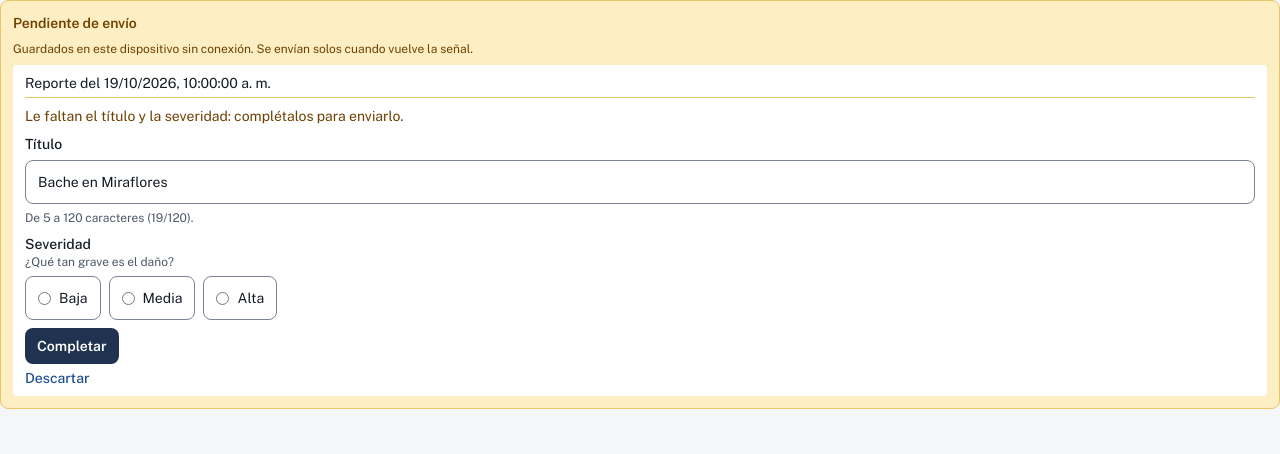
Scenario: PendientesDeEnvio: reporte incompleto (NC-02) › muestra el motivo si no se pudo completar, y se puede descartar
Expected: the field labelled "Título" holds "Bache en Miraflores", [25, 160, 1255, 204]
Click the radio button labelled "Baja".
click(44, 298)  # box [38, 292, 51, 304]
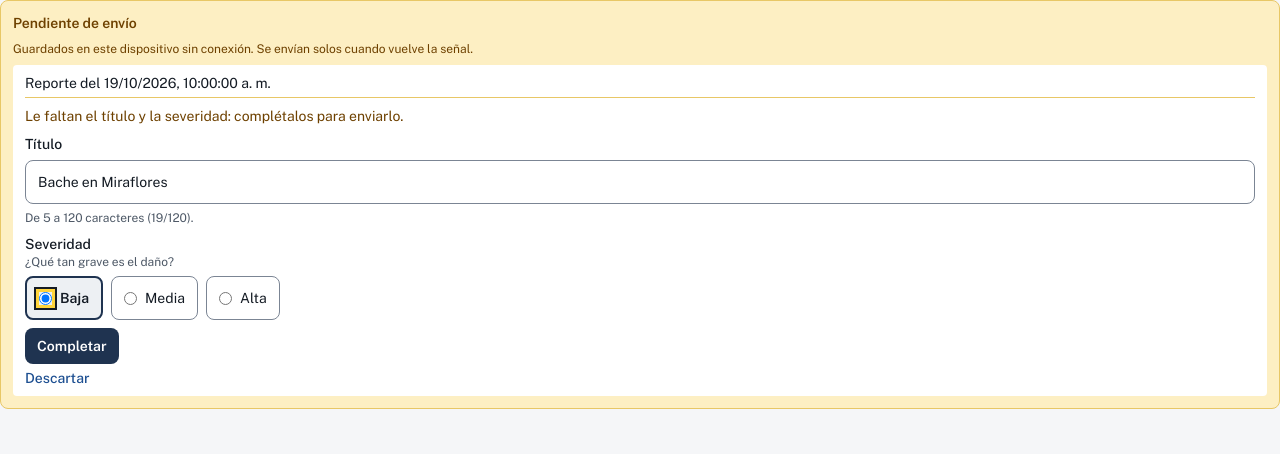
Click the button "Completar".
click(72, 346)  # box [25, 328, 118, 364]
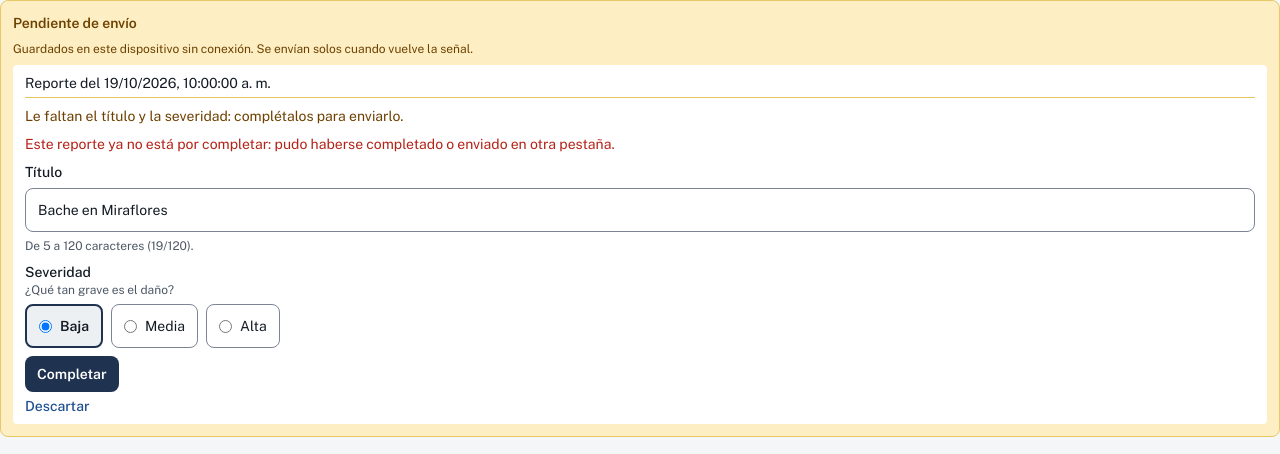
Expected: the button "Descartar" is shown, [25, 396, 90, 416]
Now the message shows "Este reporte ya no está por completar: pudo haberse completado o enviado en otra pestaña.", box [25, 136, 615, 152]
